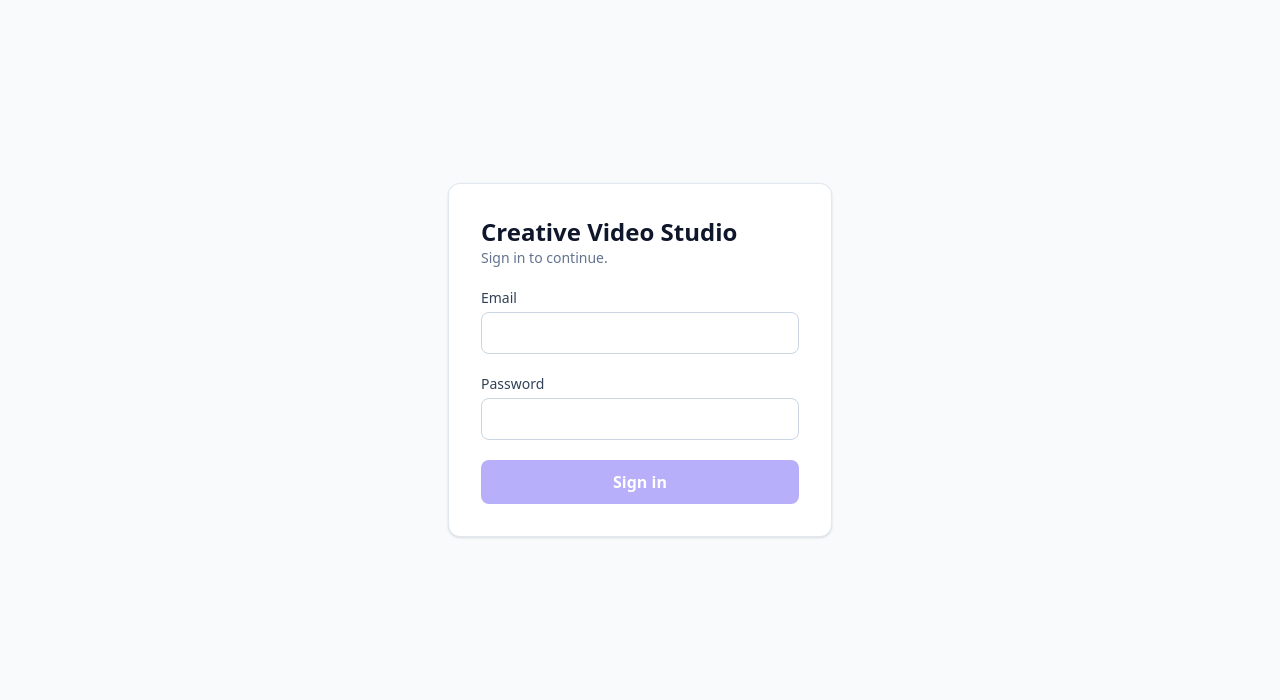
Test: App › opens the dashboard after a successful login, and logout returns to the login page
Step 1. Type "me@example.com" into the field labelled "Email" → (640, 333), box left=481, top=312, right=799, bottom=354
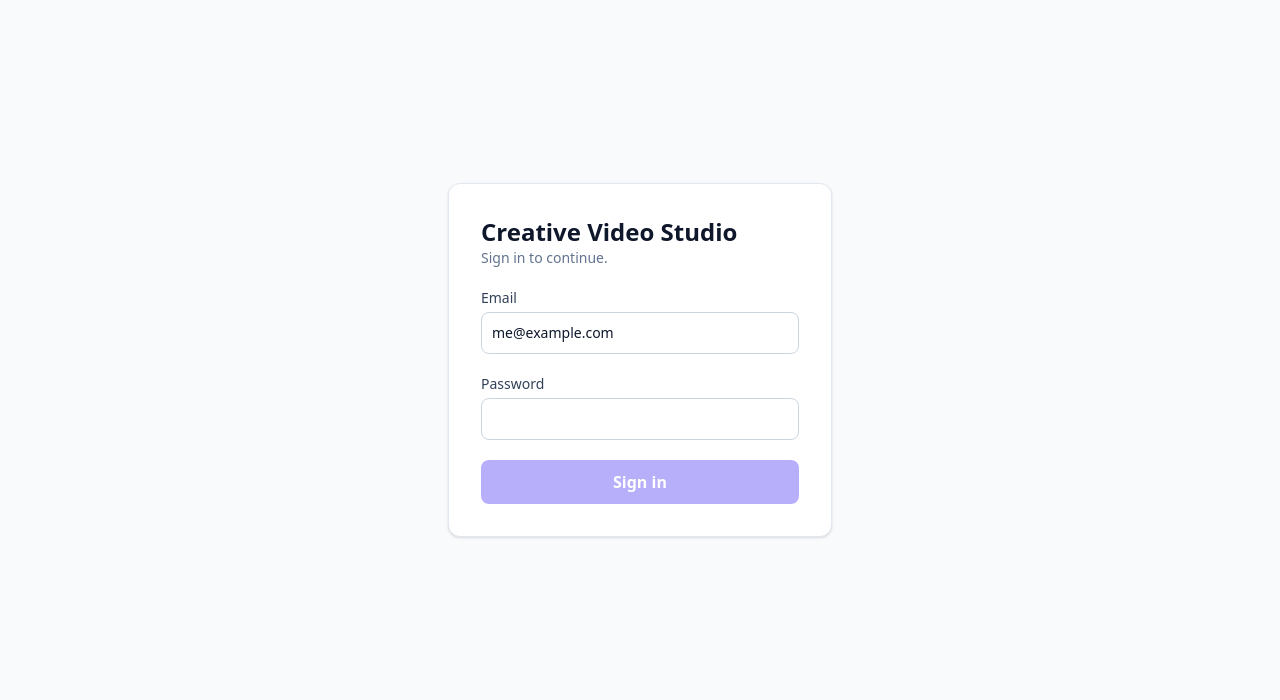
Step 2. Type "secret-pw" into the password field labelled "Password" → (640, 419), box left=481, top=398, right=799, bottom=440
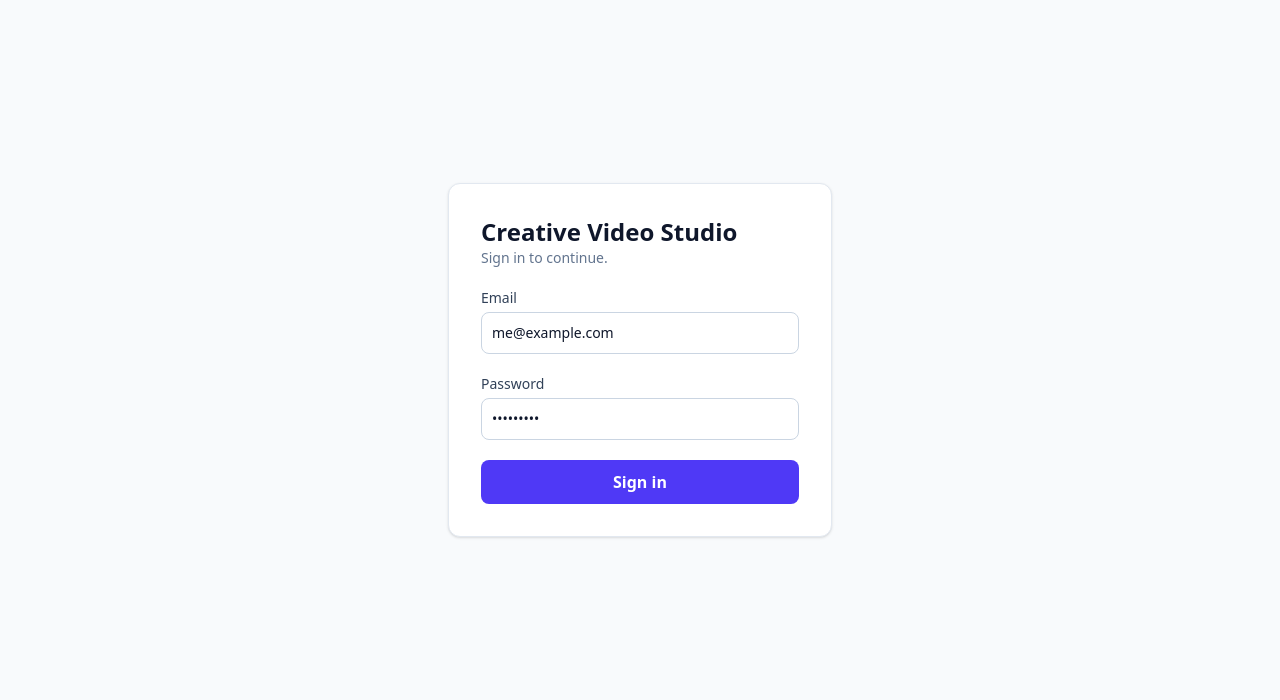
Step 3. Click the button "Sign in" → (640, 482), box left=481, top=460, right=799, bottom=504
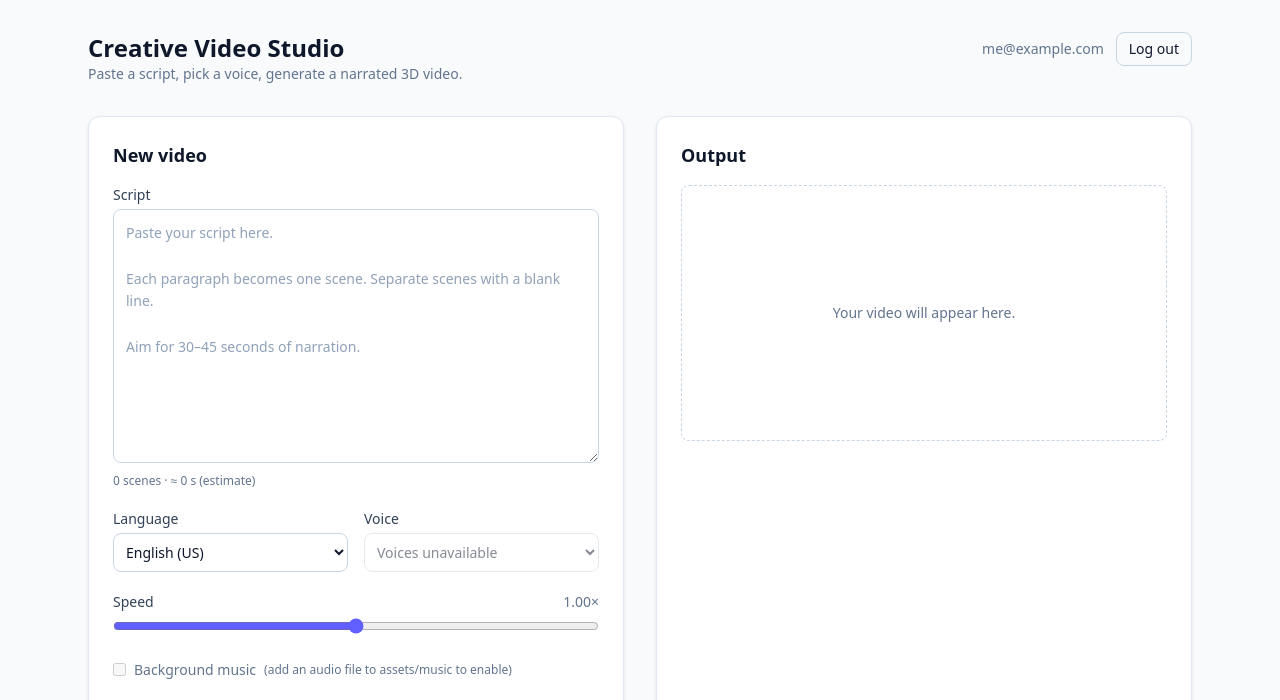
Now the heading "New video" is shown, box left=113, top=143, right=207, bottom=167
Now the text "me@example.com" is shown, box left=982, top=39, right=1104, bottom=59
Step 4. Click the button "Log out" → (1154, 49), box left=1116, top=32, right=1192, bottom=66
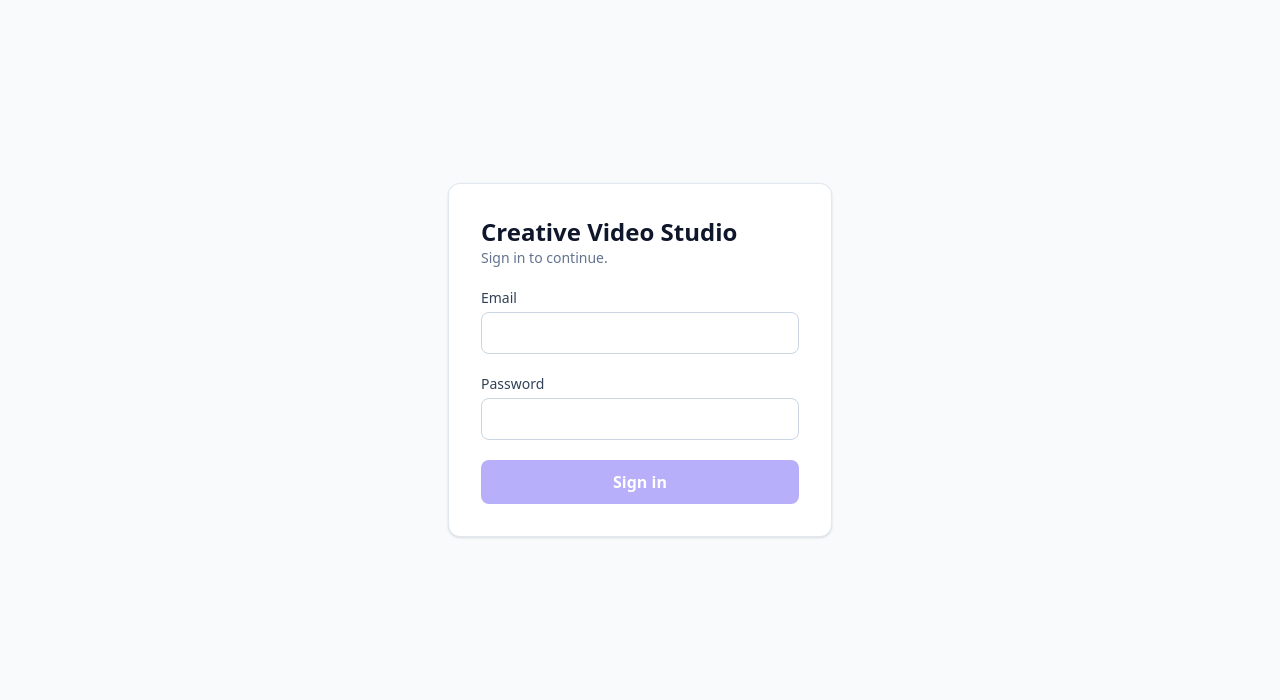
Now the button "Sign in" is shown, box left=481, top=460, right=799, bottom=504
